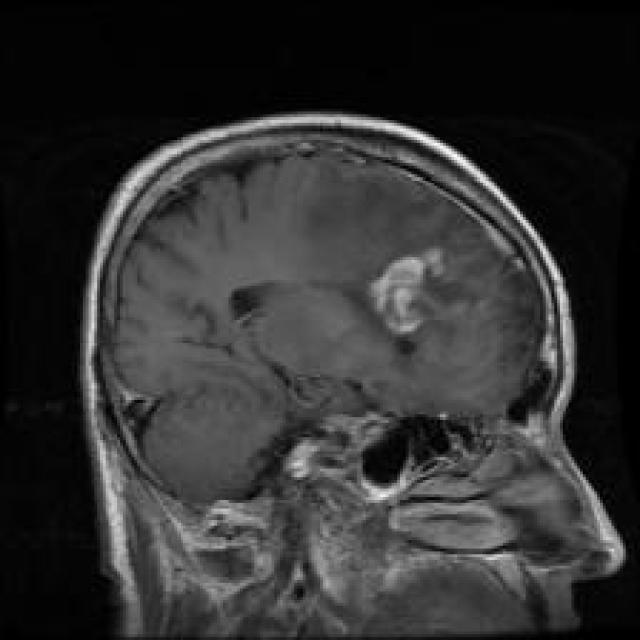glioma_tumor: (341, 243, 494, 371)
